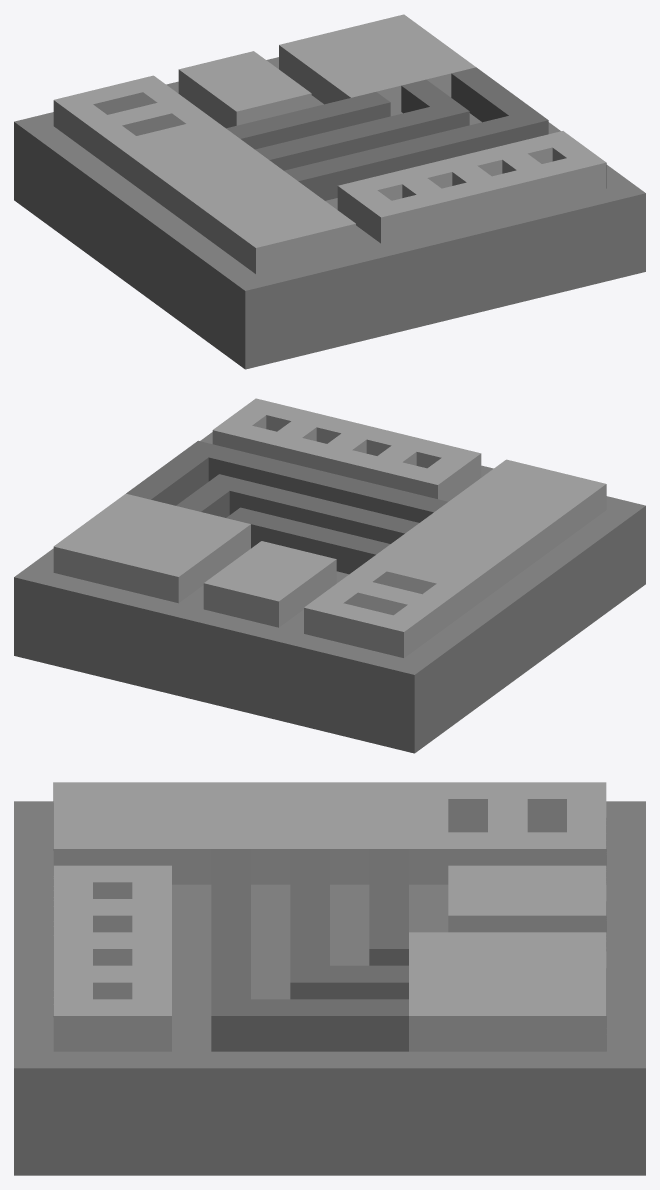
The model's file is tile1.glb.
3 renders of one model, top to bottom at view 1: azimuth 30°, elevation 25°; view 2: azimuth 150°, elevation 25°; view 3: azimuth 270°, elevation 25°, orthographic. The views are drawn at different scales.
Visible parts, largest first — view 1: tile1.002; view 2: tile1.002; view 3: tile1.002.
Part boxes in pixels (x1=…): tile1.002: x1=14, y1=14, x2=645, y2=369; tile1.002: x1=14, y1=398, x2=645, y2=753; tile1.002: x1=14, y1=782, x2=645, y2=1175.
Size of the model in its own units: 2 by 0.5 by 2.
Materials: 1 (1 with a texture image).
